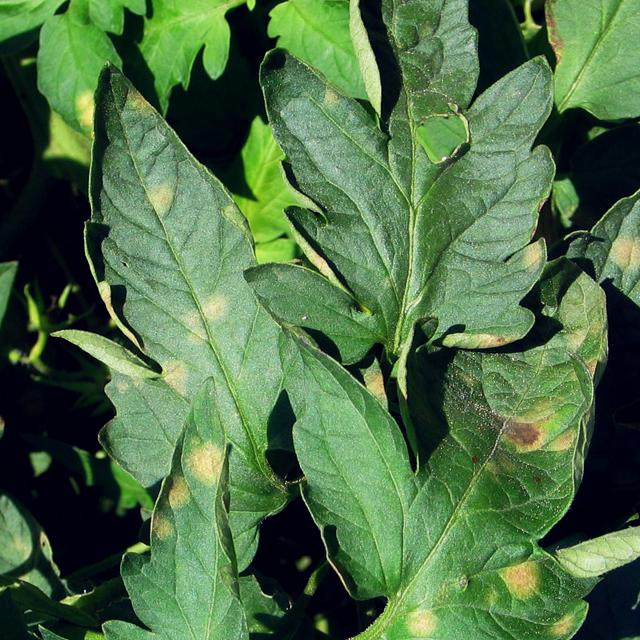Tomato mold leaf: (279, 289, 640, 640), (37, 69, 313, 525), (249, 3, 580, 352), (121, 375, 251, 640), (552, 113, 640, 402), (0, 432, 10, 640)
